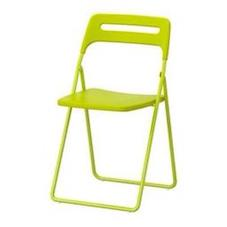chair: (52, 3, 180, 220)
